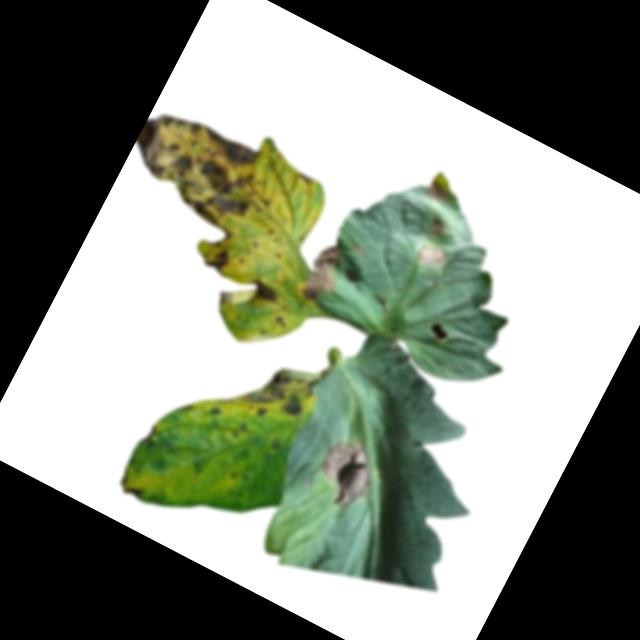Early_blight: (117, 100, 273, 239), (231, 349, 322, 437), (305, 425, 388, 516), (294, 238, 351, 309), (242, 275, 283, 309), (414, 239, 450, 273), (201, 243, 235, 276), (422, 177, 453, 208), (426, 215, 448, 239), (267, 313, 290, 334), (265, 435, 285, 457), (122, 483, 144, 502), (204, 403, 223, 422), (294, 170, 314, 187)
